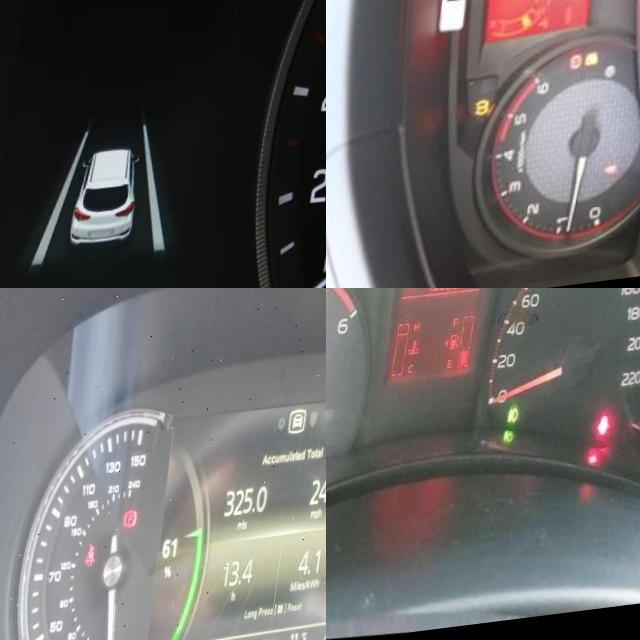Seat Belt: (91, 548, 106, 572), (618, 174, 632, 187)
